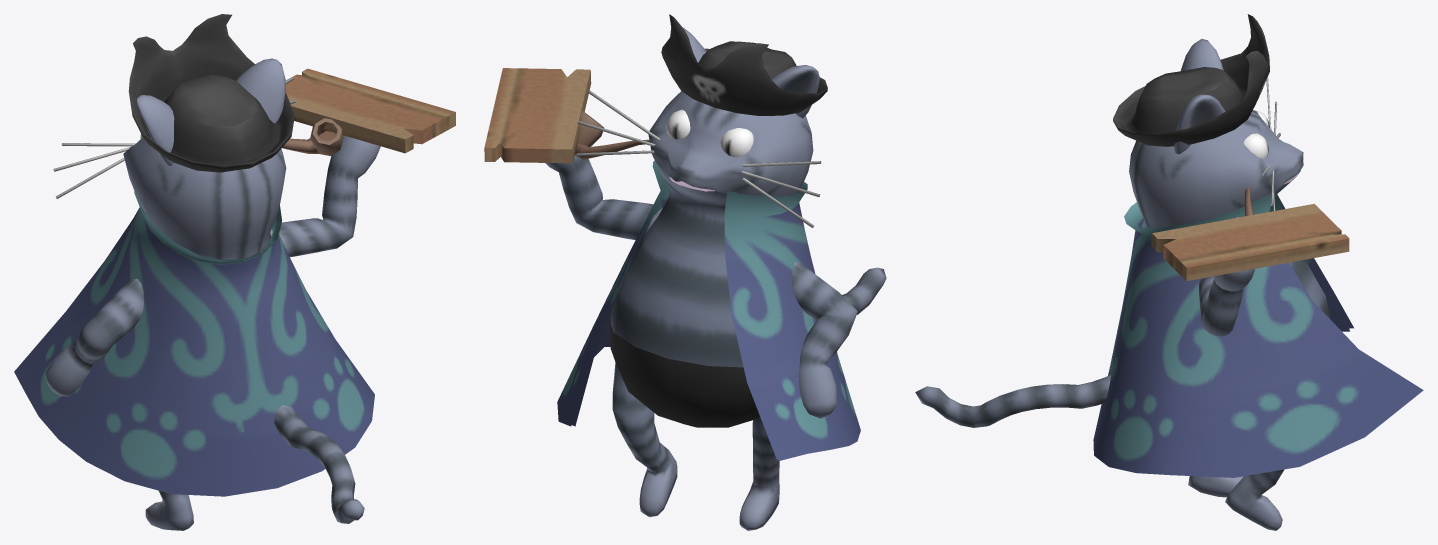
File: neko_walk_c_04.fbx
3 views of the same model, side by side, from view 1: azimuth 30°, elevation 25°; view 2: azimuth 150°, elevation 25°; view 3: azimuth 270°, elevation 25° (orthographic). The views are drawn at different scales.
Parts seen in each view (by area): view 1: W_c_04; view 2: W_c_04; view 3: W_c_04.
Boxes of the visible parts, <box> form: W_c_04: <box>14,14,455,530</box>; W_c_04: <box>484,14,886,530</box>; W_c_04: <box>915,14,1423,530</box>.
Size of the model in its own units: 1.58 by 1.99 by 1.93.
Materials: 1 (1 with a texture image).
